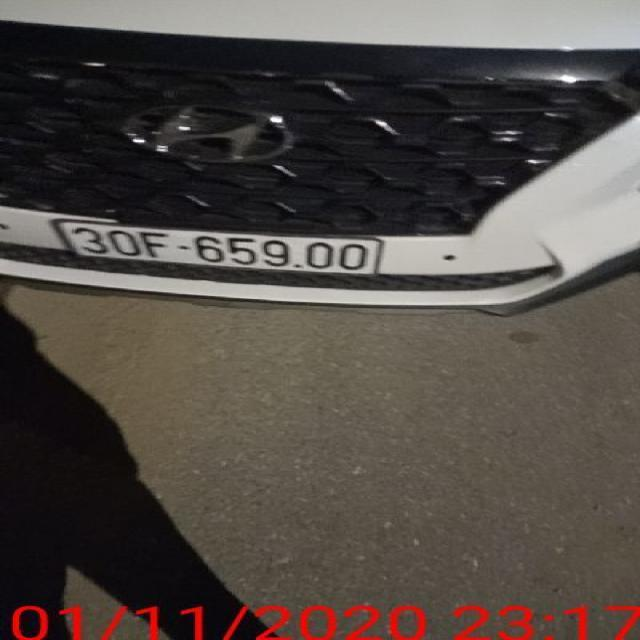bien_so_oto: (54, 218, 382, 278)
